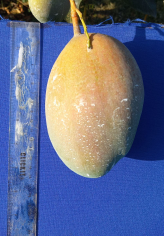Mango-sano: (45, 0, 143, 177)
